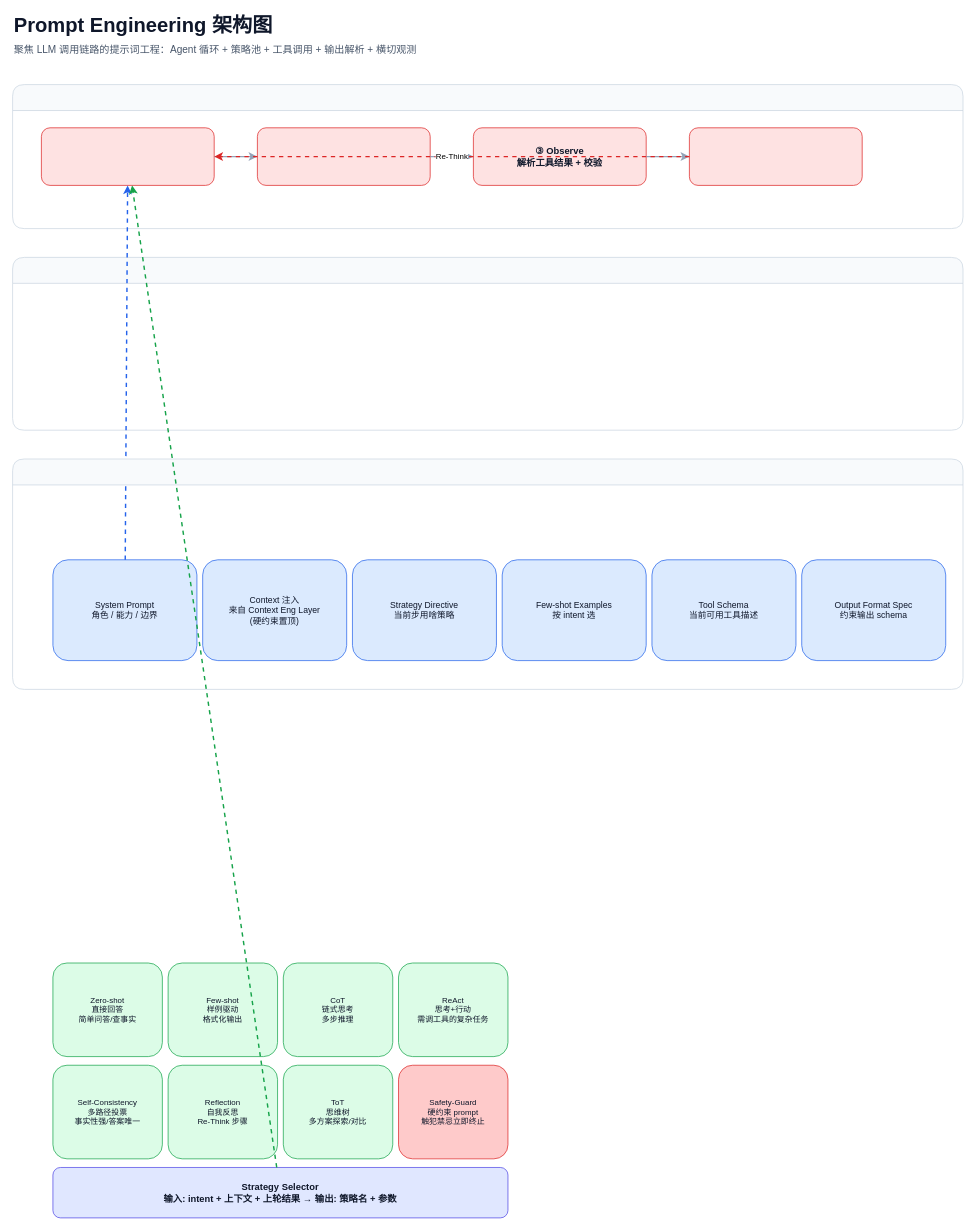
Image size: 976x1230. Some labels were removed from this diagram. The box of each missing label's shape, as (x1, y1, x2, y2) in pixels:
Agent Loop（核心循环）: (12, 84, 963, 229)
① Prompt Assembly（提示词装配层）: (12, 257, 963, 430)
① Think 选策略 + 生成 plan: (41, 127, 214, 185)
② Act 调用工具 / 给出回答: (257, 127, 430, 185)
② Strategy Pool（策略池）: (12, 458, 963, 689)
④ Decide 证据齐 / Safety / 最大步数: (689, 127, 862, 185)
